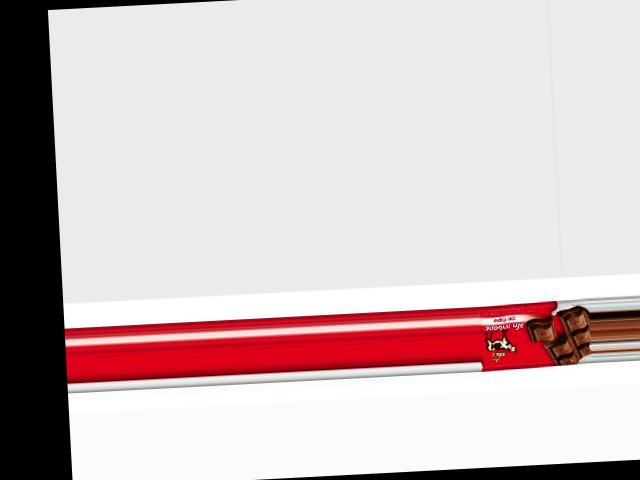chocolate: (476, 300, 590, 370)
